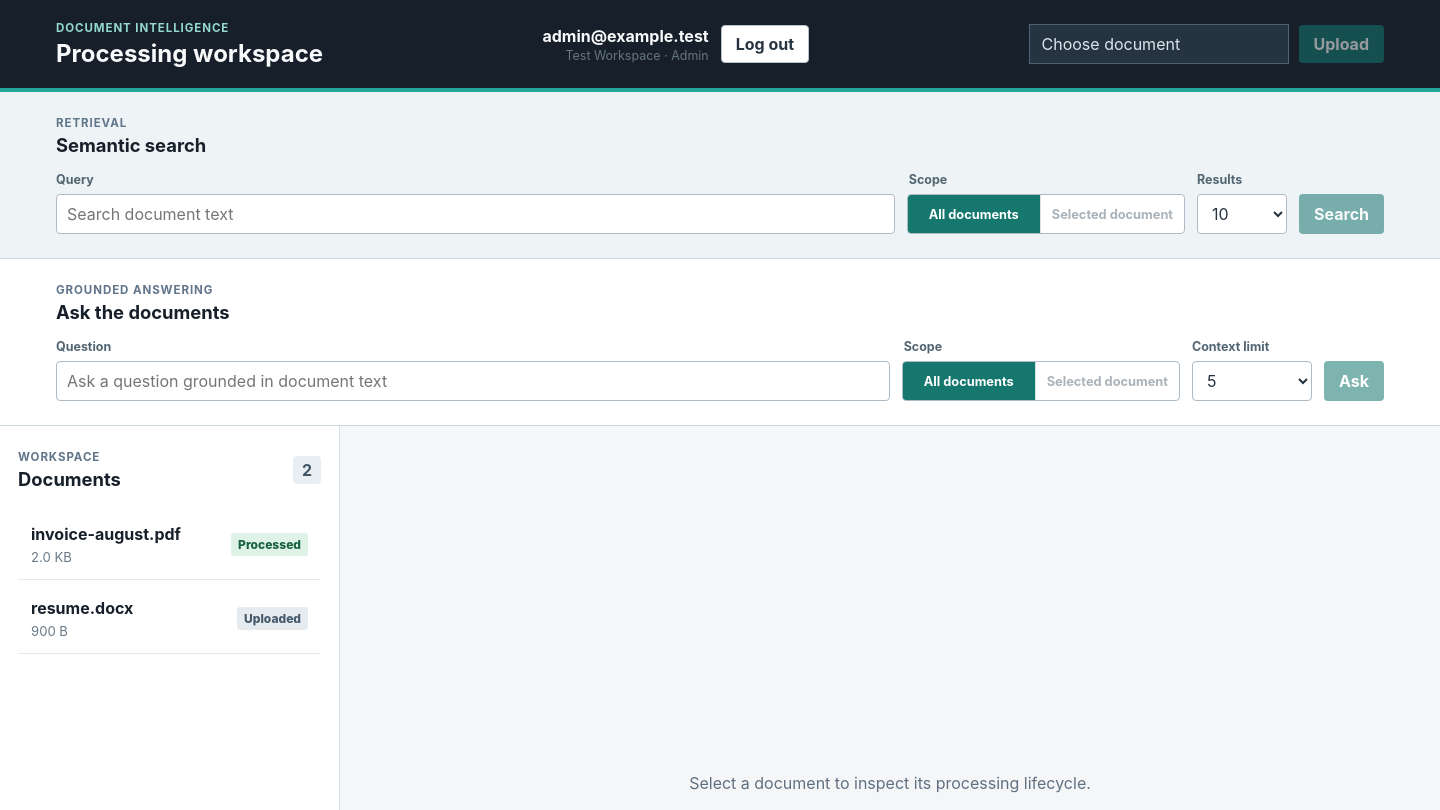
Test case: document workspace › identifies a reviewed classification override
The width and height of the screenshot is (1440, 810).
Click the button "invoice-august.pdf 2.0 KB Processed": (170,544) [18,508,321,580]
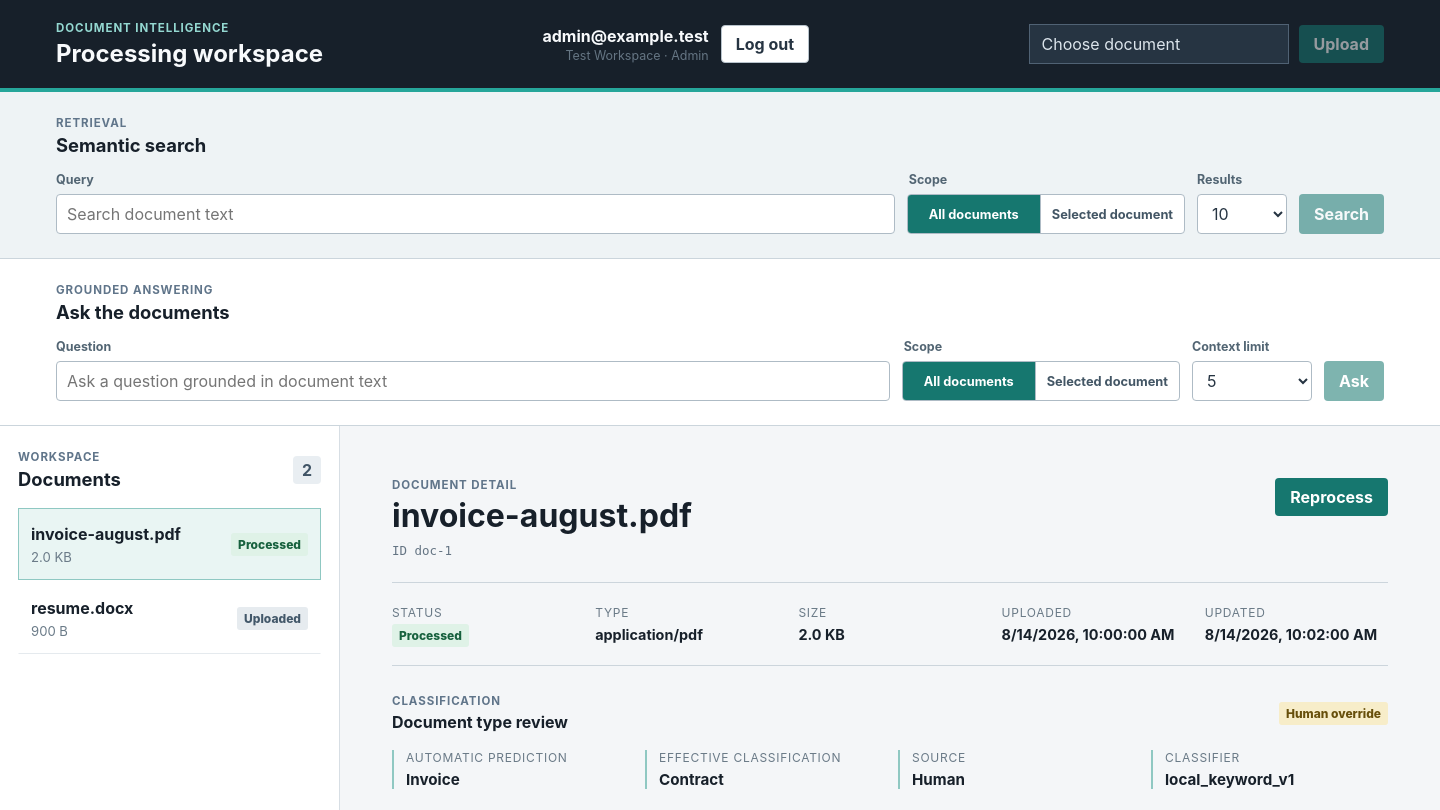
Check: the text "Human override" is shown, box [1279,702,1388,724]
